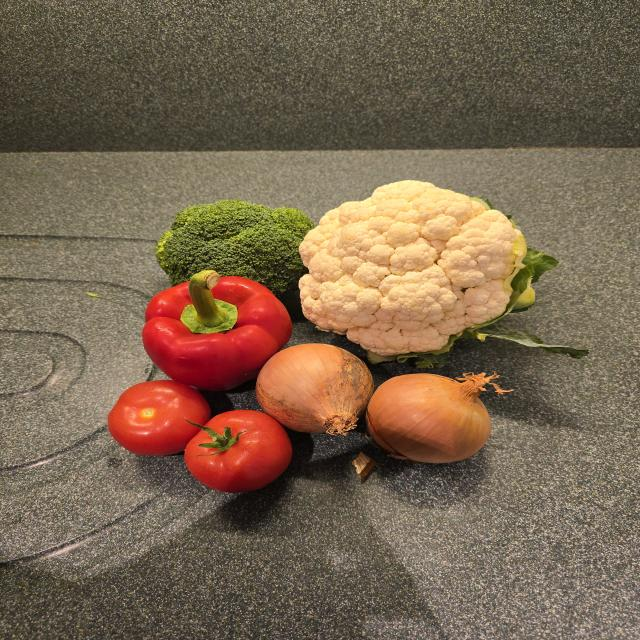Bell Pepper: (143, 270, 292, 390)
Broccoli: (156, 200, 314, 295)
Cauliflower: (299, 180, 557, 361)
Onion: (366, 373, 496, 463), (256, 344, 374, 435)
Tomato: (185, 410, 292, 492), (108, 380, 211, 455)
